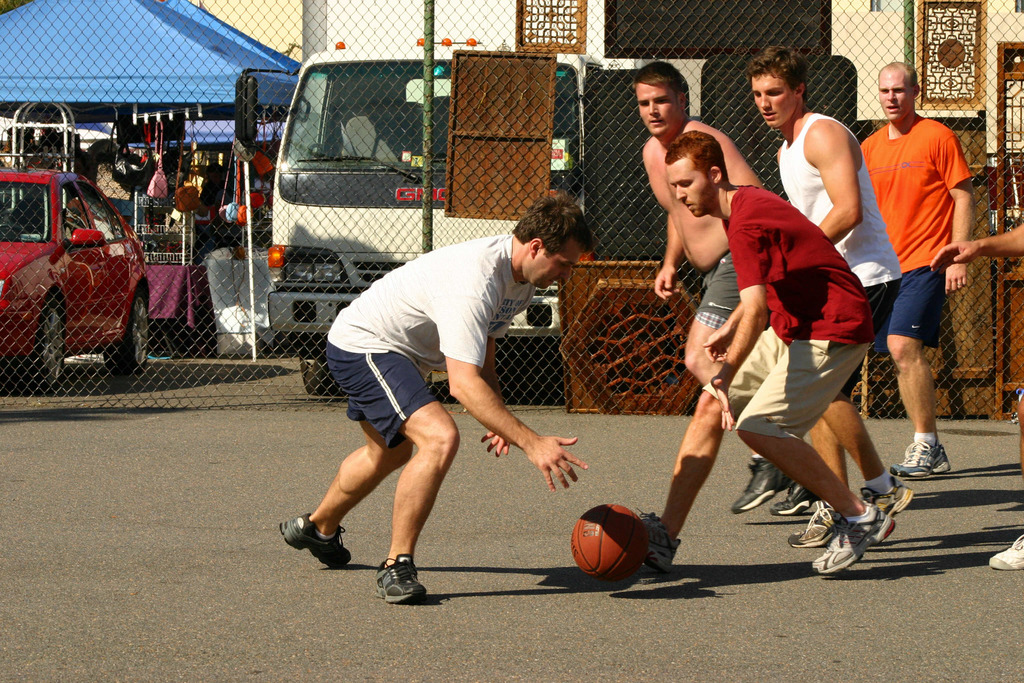Ball: (570, 503, 651, 583)
